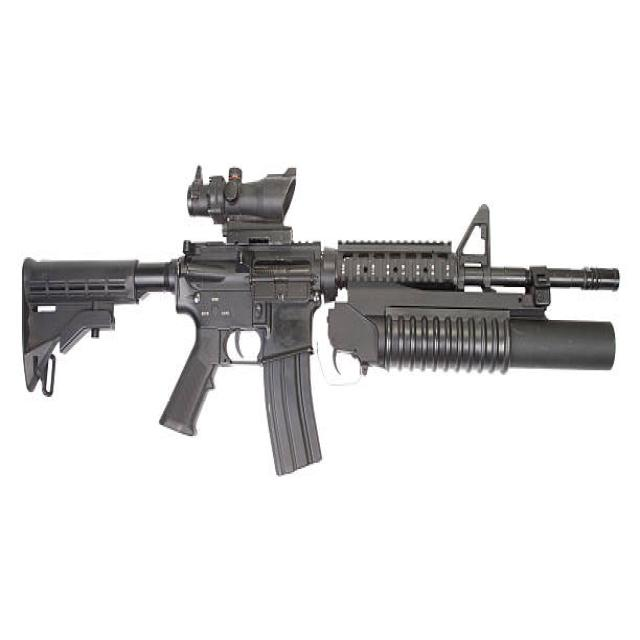rifle: (16, 147, 626, 487)
